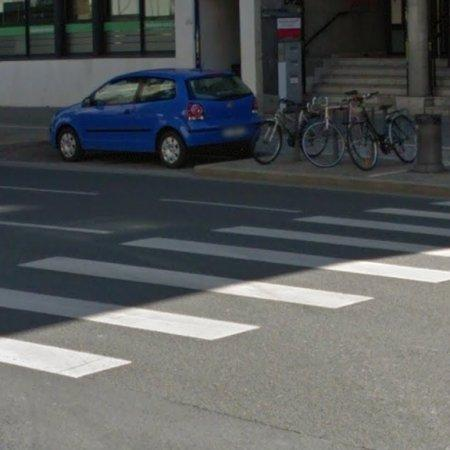crosswalks: (5, 201, 450, 401)
